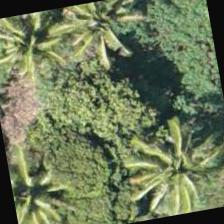Kelapa_Sawit: (117, 115, 220, 219), (0, 6, 84, 97), (48, 0, 147, 65)
